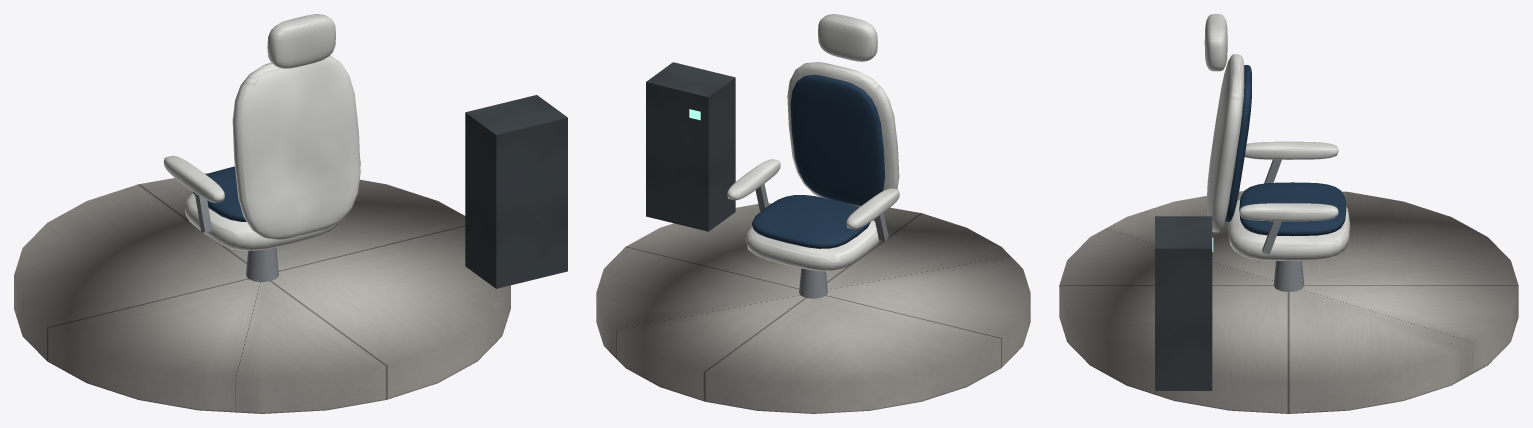
The model's file is test_chair.glb.
3 renders of one model, left to right at view 1: azimuth 30°, elevation 25°; view 2: azimuth 150°, elevation 25°; view 3: azimuth 270°, elevation 25°, orthographic. The views are drawn at different scales.
Visible parts, largest first — view 1: test_chair; view 2: test_chair; view 3: test_chair.
Part boxes in pixels (<box>): test_chair: <box>14,14,567,413</box>; test_chair: <box>596,14,1030,413</box>; test_chair: <box>1059,14,1518,413</box>.
Bounding box in the file's own units: 2.5 × 1.7 × 2.4.
6 materials, 5 textured.
